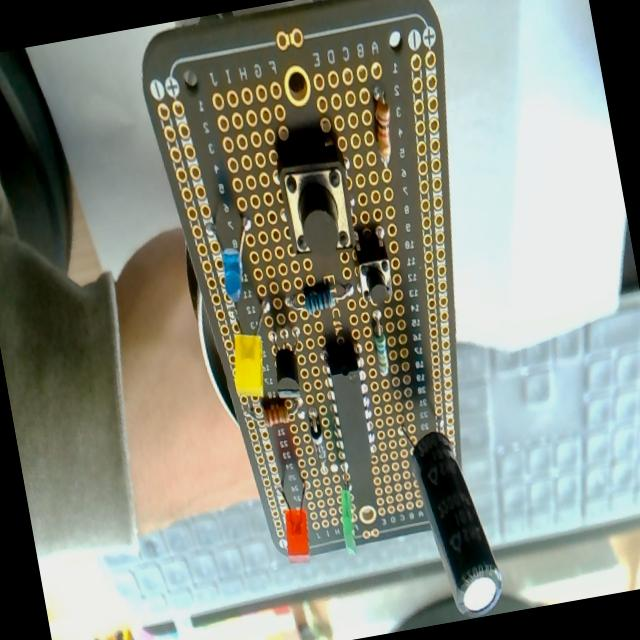Electrolytic capacitor: (394, 404, 503, 618)
IC: (320, 342, 390, 515)
diode: (308, 415, 326, 457)
led: (220, 292, 280, 400), (210, 212, 264, 304), (272, 471, 318, 566), (335, 486, 361, 556)
resistor: (368, 93, 399, 166), (368, 307, 392, 375), (300, 282, 336, 316), (262, 399, 291, 428)
switch: (274, 135, 359, 263), (352, 227, 396, 309)
transistor: (264, 320, 306, 407)
